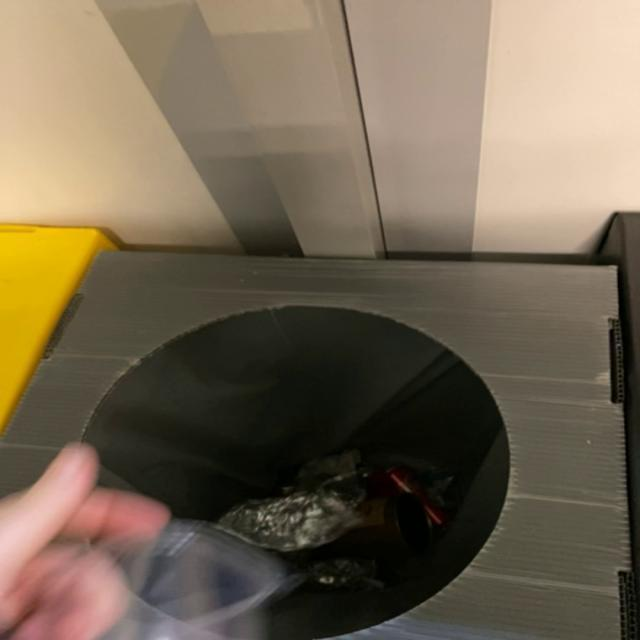Bin: (1, 252, 631, 640), (90, 331, 103, 334)
Metal: (219, 490, 361, 553)
